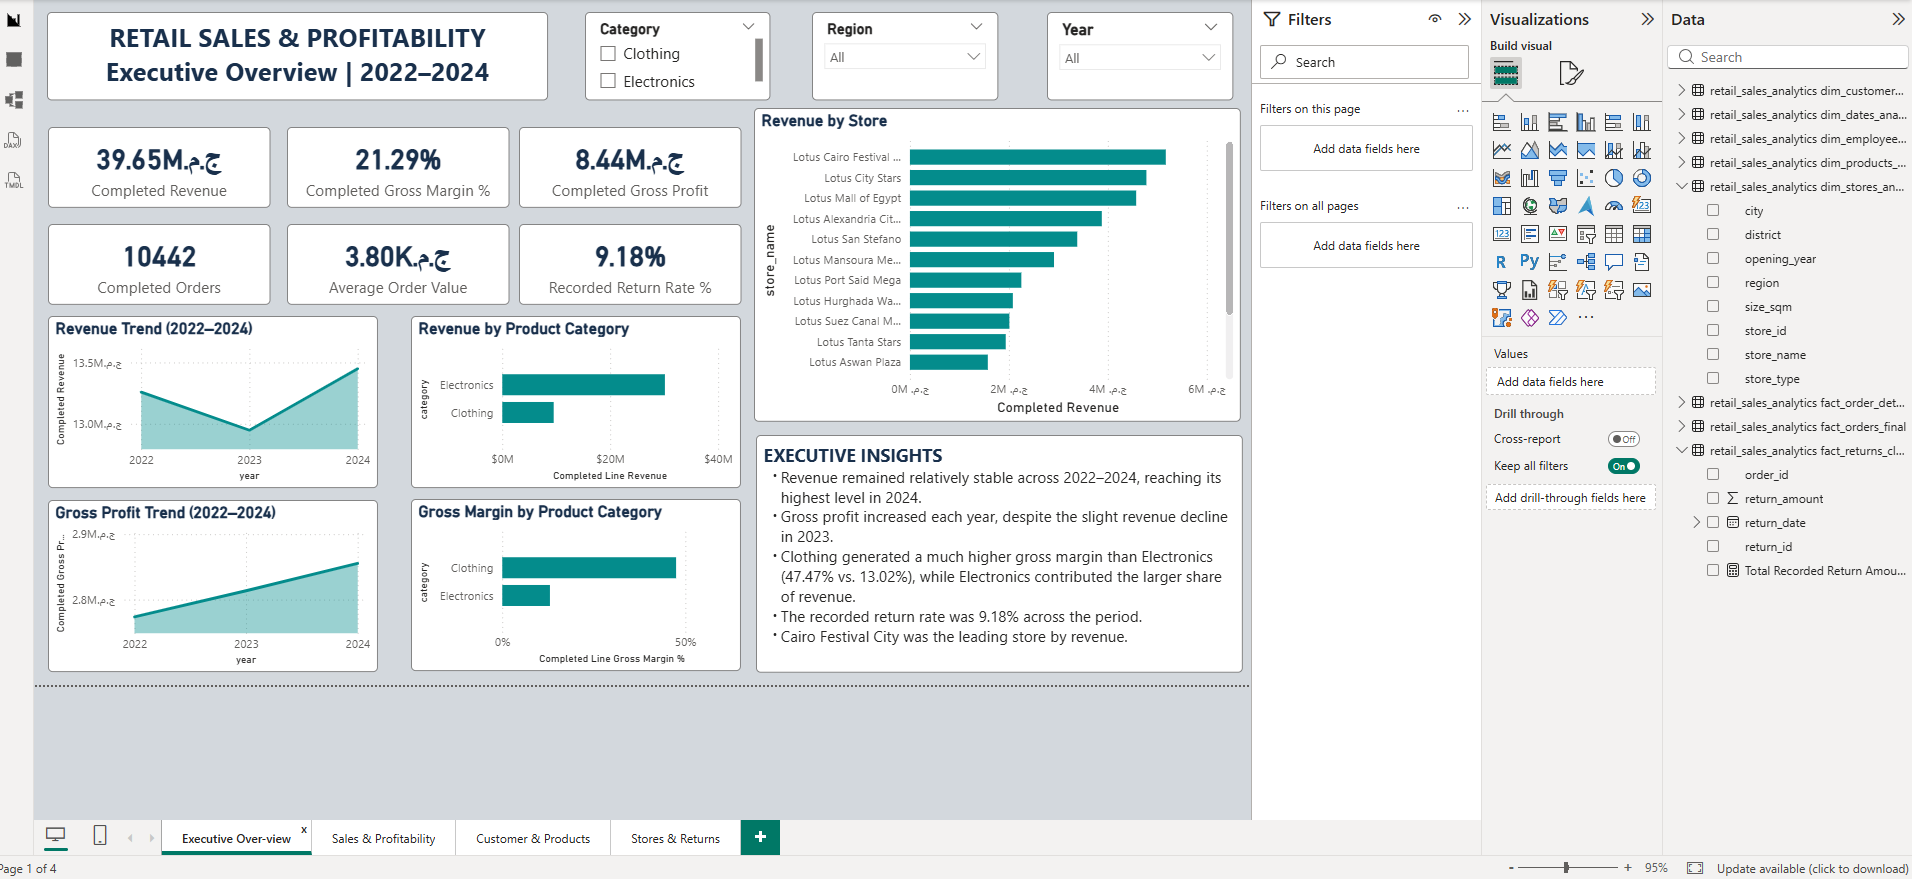

Layout of this report page (visuals, bound fields, positions):
{"tool":"powerbi","page":{"name":"Executive Over-view","canvas":[1280,720],"ordinal":0},"visuals":[{"type":"textbox","box":[13.7,12.6,526.9,92.6],"z":0},{"type":"card","fields":{"Values":["retail_sales_analytics fact_orders_final.Completed Revenue"]},"box":[14.4,133.2,233.9,85.2],"z":1000},{"type":"card","fields":{"Values":["retail_sales_analytics fact_orders_final.Completed Gross Margin %"]},"box":[266.3,133.2,233.9,85.2],"z":2000},{"type":"card","fields":{"Values":["retail_sales_analytics fact_orders_final.Completed Gross Profit"]},"box":[509.8,133.2,233.9,85.2],"z":3000},{"type":"card","fields":{"Values":["retail_sales_analytics fact_orders_final.Completed Orders"]},"box":[14.4,235.1,233.9,85.2],"z":4000},{"type":"card","fields":{"Values":["retail_sales_analytics fact_orders_final.Average Order Value"]},"box":[266.3,235.1,233.9,85.2],"z":5000},{"type":"card","fields":{"Values":["retail_sales_analytics fact_orders_final.Recorded Return Rate %"]},"box":[509.8,235.1,233.9,85.2],"z":6000},{"type":"areaChart","title":"Revenue Trend (2022–2024)","fields":{"Category":["retail_sales_analytics dim_dates_analytics.year"],"Y":["retail_sales_analytics fact_orders_final.Completed Revenue"]},"box":[14.4,332.3,346.7,181.1],"z":7000},{"type":"areaChart","title":"Gross Profit Trend (2022–2024)","fields":{"Category":["retail_sales_analytics dim_dates_analytics.year"],"Y":["retail_sales_analytics fact_orders_final.Completed Gross Profit"]},"box":[14.4,525.4,346.7,181.1],"z":8000},{"type":"clusteredBarChart","title":"Revenue by Product Category","fields":{"Category":["retail_sales_analytics dim_products_clean.category"],"Y":["retail_sales_analytics fact_order_details_analytics.Completed Line Revenue"]},"box":[396.8,332.2,347.1,181],"z":9000},{"type":"clusteredBarChart","title":"Gross Margin by Product Category","fields":{"Category":["retail_sales_analytics dim_products_clean.category"],"Y":["retail_sales_analytics fact_order_details_analytics.Completed Line Gross Margin %"]},"box":[396.8,525.1,347.1,181],"z":10000},{"type":"slicer","fields":{"Values":["retail_sales_analytics dim_dates_analytics.year"]},"box":[1065.4,12.6,195.6,92.6],"z":11000},{"type":"slicer","fields":{"Values":["retail_sales_analytics dim_stores_analytics.region"]},"box":[818.3,12.6,195.6,92.6],"z":12000},{"type":"slicer","fields":{"Values":["retail_sales_analytics dim_products_clean.category"]},"box":[579.5,12.6,194.6,92.6],"z":13000},{"type":"barChart","title":"Revenue by Store","fields":{"Category":["retail_sales_analytics dim_stores_analytics.store_name"],"Y":["retail_sales_analytics fact_orders_final.Completed Revenue"]},"box":[757.3,113.6,512.2,330.3],"z":14000},{"type":"textbox","box":[759.4,457.1,512.2,249.5],"z":15000}]}

Visuals, with their boxes on the page's 1280x720 design canvas (x1, y1, x2, y2). These are canvas units, not pixel positions in the 1912x879 screenshot, which may show the page scaled, cropped or inside an application window:
textbox: (14, 13, 541, 105)
card - retail_sales_analytics fact_orders_final.Completed Revenue: (14, 133, 248, 218)
card - retail_sales_analytics fact_orders_final.Completed Gross Margin %: (266, 133, 500, 218)
card - retail_sales_analytics fact_orders_final.Completed Gross Profit: (510, 133, 744, 218)
card - retail_sales_analytics fact_orders_final.Completed Orders: (14, 235, 248, 320)
card - retail_sales_analytics fact_orders_final.Average Order Value: (266, 235, 500, 320)
card - retail_sales_analytics fact_orders_final.Recorded Return Rate %: (510, 235, 744, 320)
"Revenue Trend (2022–2024)" areaChart: (14, 332, 361, 513)
"Gross Profit Trend (2022–2024)" areaChart: (14, 525, 361, 706)
"Revenue by Product Category" clusteredBarChart: (397, 332, 744, 513)
"Gross Margin by Product Category" clusteredBarChart: (397, 525, 744, 706)
slicer - retail_sales_analytics dim_dates_analytics.year: (1065, 13, 1261, 105)
slicer - retail_sales_analytics dim_stores_analytics.region: (818, 13, 1014, 105)
slicer - retail_sales_analytics dim_products_clean.category: (580, 13, 774, 105)
"Revenue by Store" barChart: (757, 114, 1270, 444)
textbox: (759, 457, 1272, 707)
